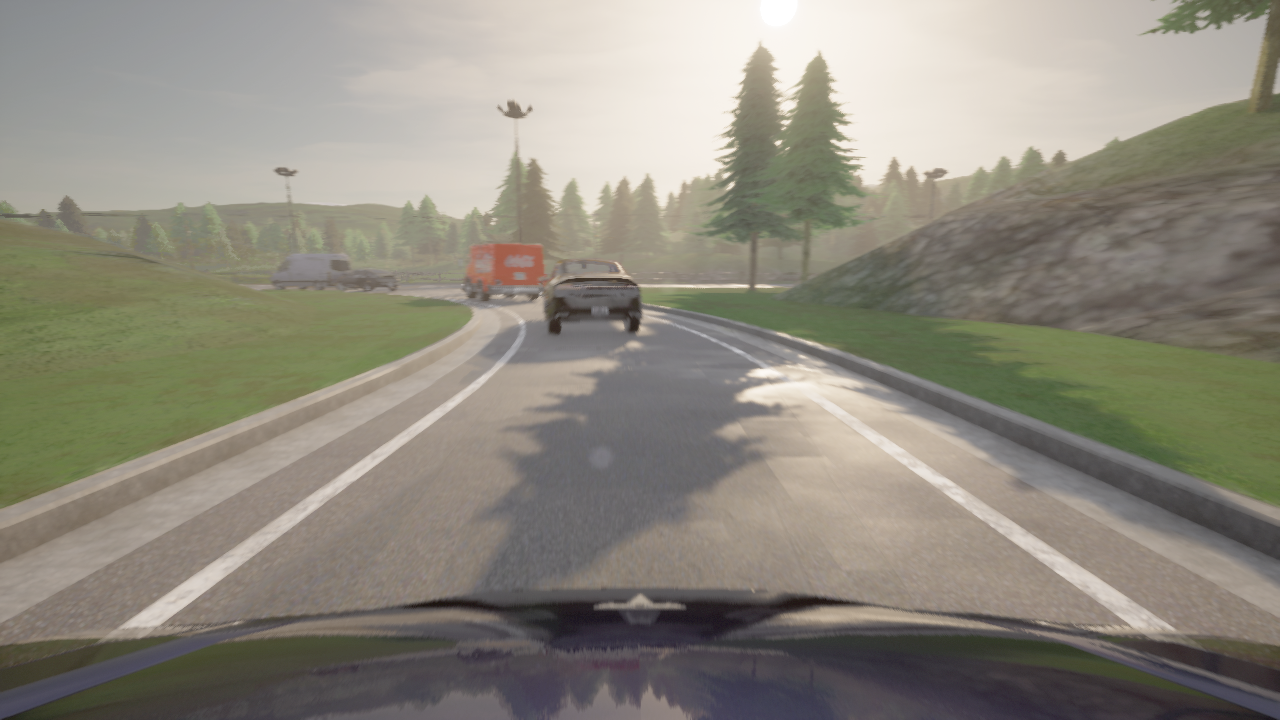cyclist: (0, 588, 1279, 719), (538, 259, 642, 334), (458, 243, 545, 301), (271, 253, 351, 290), (336, 268, 399, 292)
